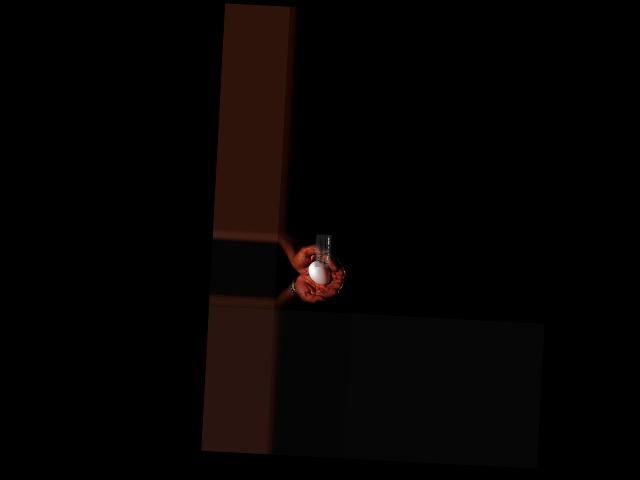egg: (307, 260, 332, 285)
